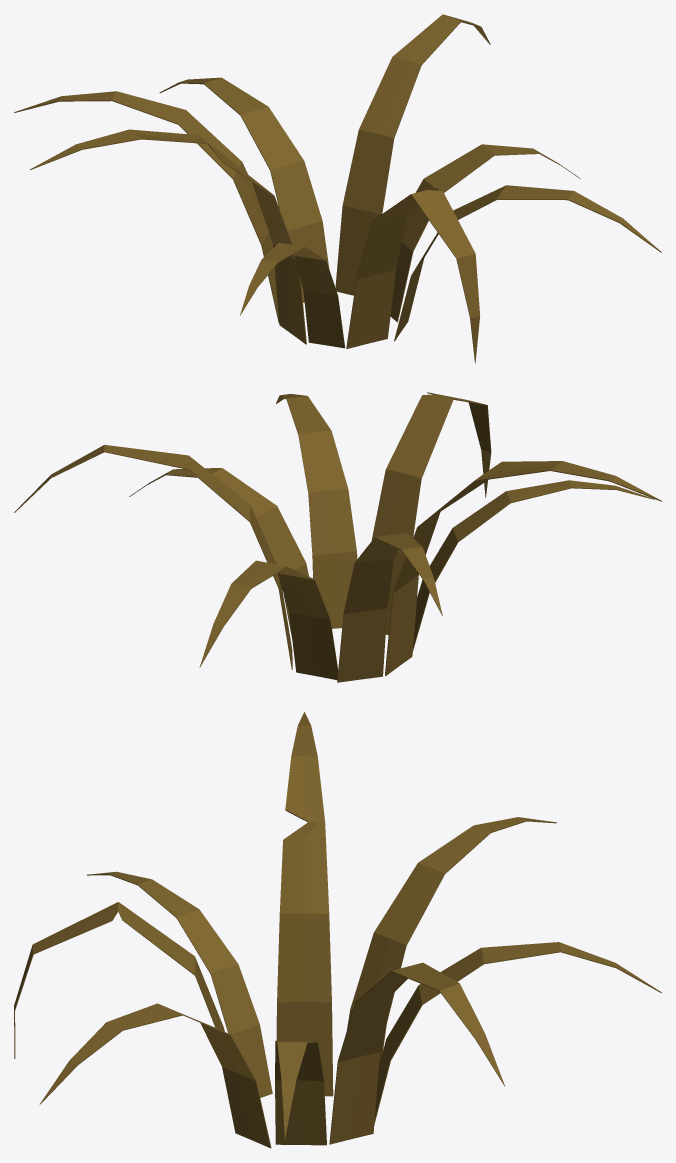
Rendered from PlantBrown01.fbx.
3 renders of one model, top to bottom at view 1: azimuth 30°, elevation 25°; view 2: azimuth 150°, elevation 25°; view 3: azimuth 270°, elevation 25°, orthographic. The views are drawn at different scales.
Visible parts, largest first — view 1: pPlane47; view 2: pPlane47; view 3: pPlane47.
Boxes of the visible parts, left/top/right/bottom form: pPlane47: left=14, top=14, right=661, bottom=363; pPlane47: left=14, top=392, right=661, bottom=682; pPlane47: left=14, top=712, right=661, bottom=1148.
Size of the model in its own units: 1.31 by 0.5452 by 1.24.
